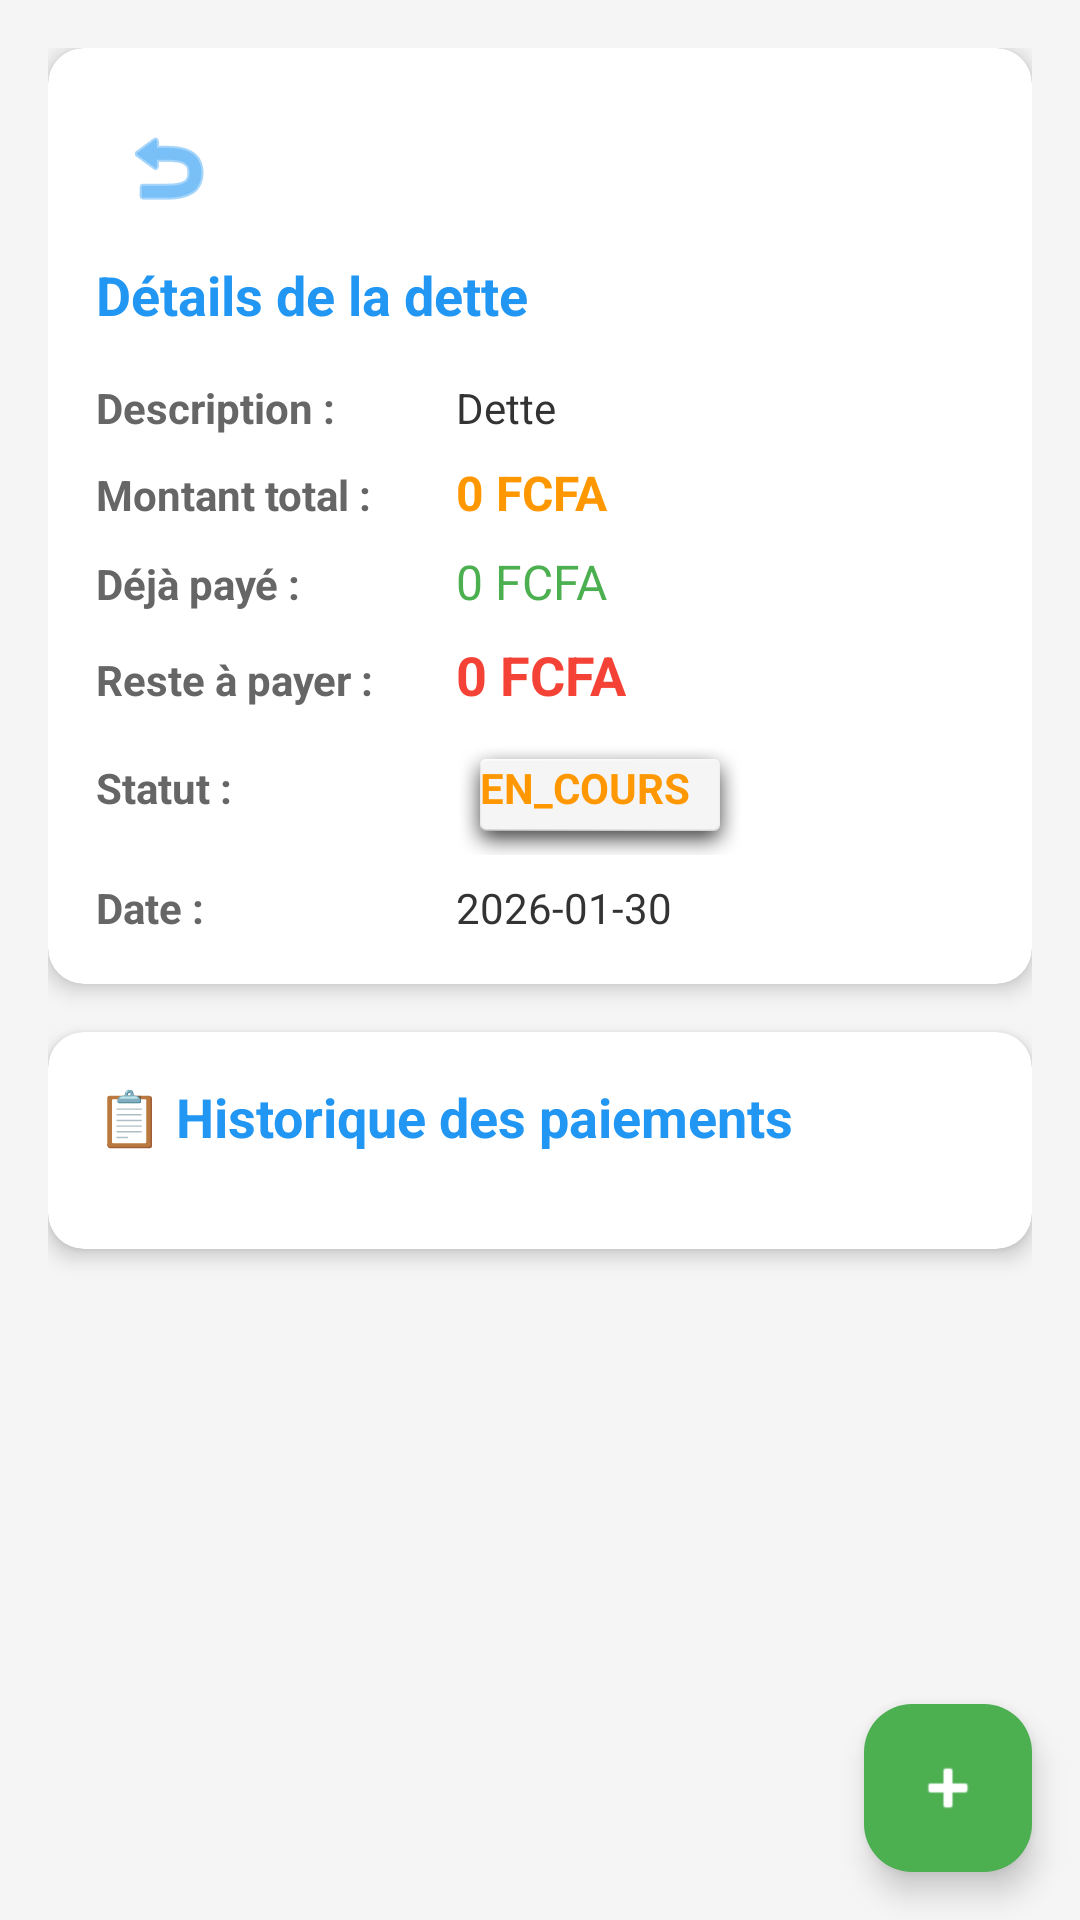

Icon bounding boxes for this 1080*1920 phone screenshot, format (x1, y1, x2, y2):
Ajouter un paiement: (864, 1704, 1032, 1872)
Retour: (135, 137, 204, 200)
